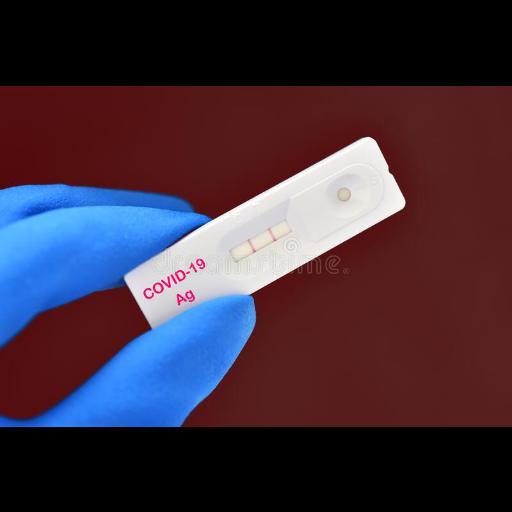Pos: (124, 136, 409, 338)
